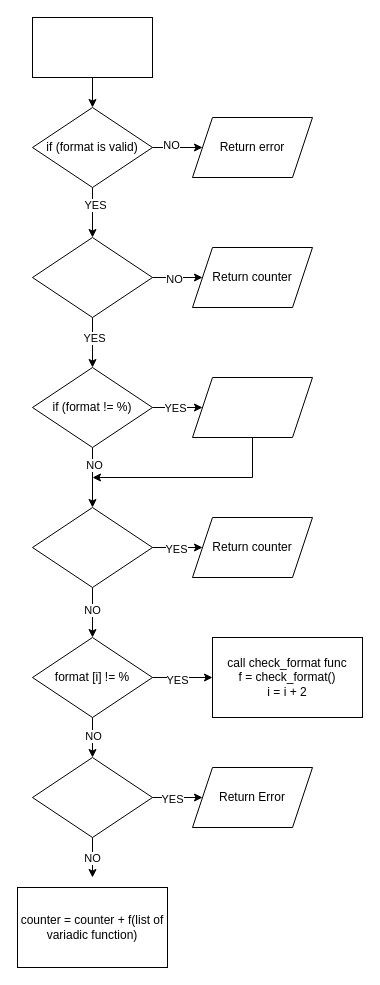
Image size: 380x985. Some labels were removed from this diagram. The box of each missing label's shape, as (x1, y1, x2, y2) in pixels:
f = NULL: (32, 756, 152, 838)
format [i] != '\0': (32, 506, 152, 588)
format[i] is valid: (32, 236, 152, 318)
print format[i] then increment: (192, 376, 312, 438)
VARIADIC functions with specifier to compare: (32, 16, 152, 78)
